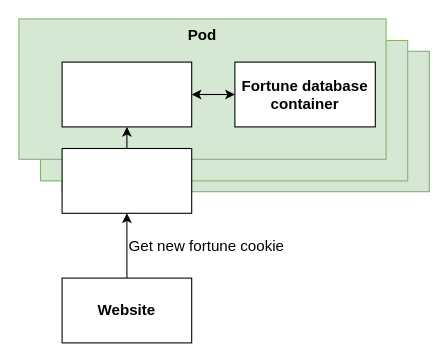
The diagram is 448 pixels wide and 362 high, and some of its shapes have lost their labels. The centre of each missing label's shape, as x and y in pixels:
"API container" goes at pixel 126 94.
"Service" goes at pixel 126 180.
